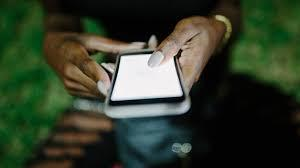Hand: (39, 32, 134, 102), (153, 21, 225, 92)
Smartphone: (106, 39, 184, 117)
